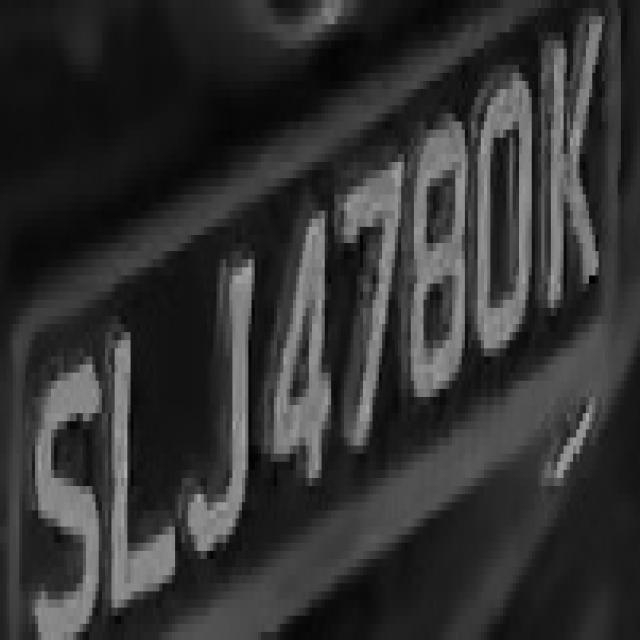0: (468, 65, 538, 372)
4: (261, 202, 347, 510)
7: (334, 170, 408, 462)
8: (392, 105, 478, 413)
J: (178, 251, 261, 567)
K: (535, 32, 611, 324)
L: (105, 276, 191, 600)
S: (26, 316, 105, 616)
